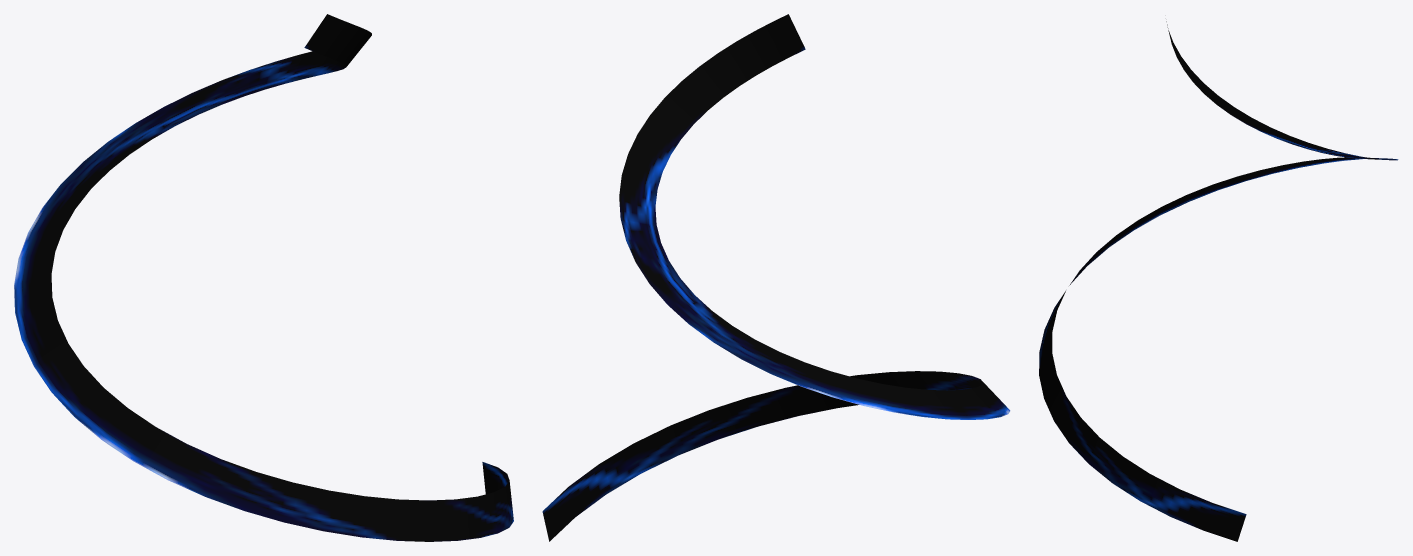
3 views of the same model, side by side, from view 1: azimuth 30°, elevation 25°; view 2: azimuth 150°, elevation 25°; view 3: azimuth 270°, elevation 25° (orthographic). The views are drawn at different scales.
Parts seen in each view (by area): view 1: Asset3DLoader.sceneRoot; view 2: Asset3DLoader.sceneRoot; view 3: Asset3DLoader.sceneRoot.
Boxes of the visible parts, x1,y1,x2,y2 form: Asset3DLoader.sceneRoot: (14, 14, 513, 541); Asset3DLoader.sceneRoot: (542, 14, 1010, 541); Asset3DLoader.sceneRoot: (1039, 21, 1398, 541).
Size of the model in its own units: 37.52 by 45.65 by 33.14.
Materials: 1 (1 with a texture image).
